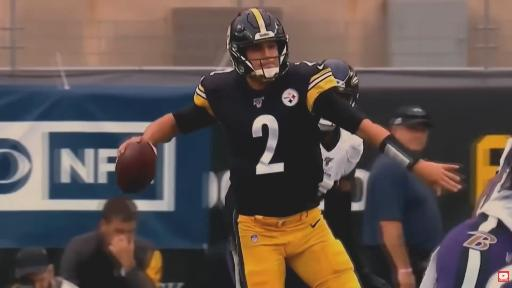Helmet: (227, 9, 289, 79), (323, 60, 358, 106)
Jersey: (194, 63, 336, 217), (477, 138, 511, 230), (320, 128, 363, 192)
Player: (119, 9, 460, 287), (421, 138, 511, 287), (319, 119, 388, 287)
